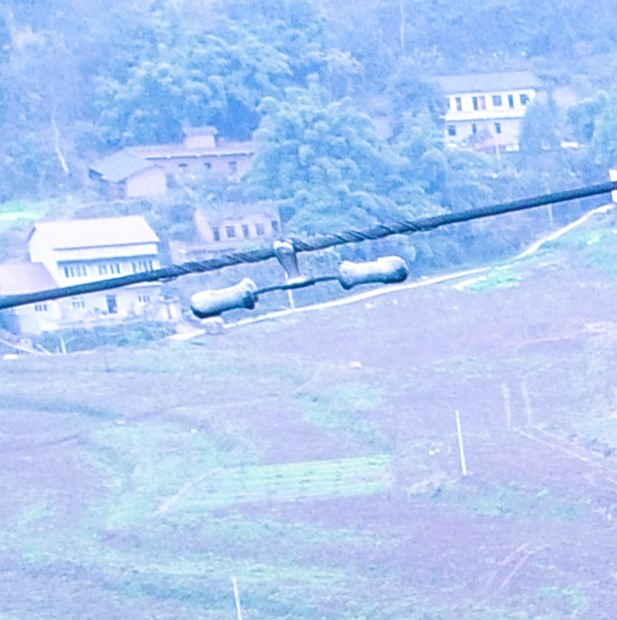Shockproof hammer: (174, 219, 420, 323)
